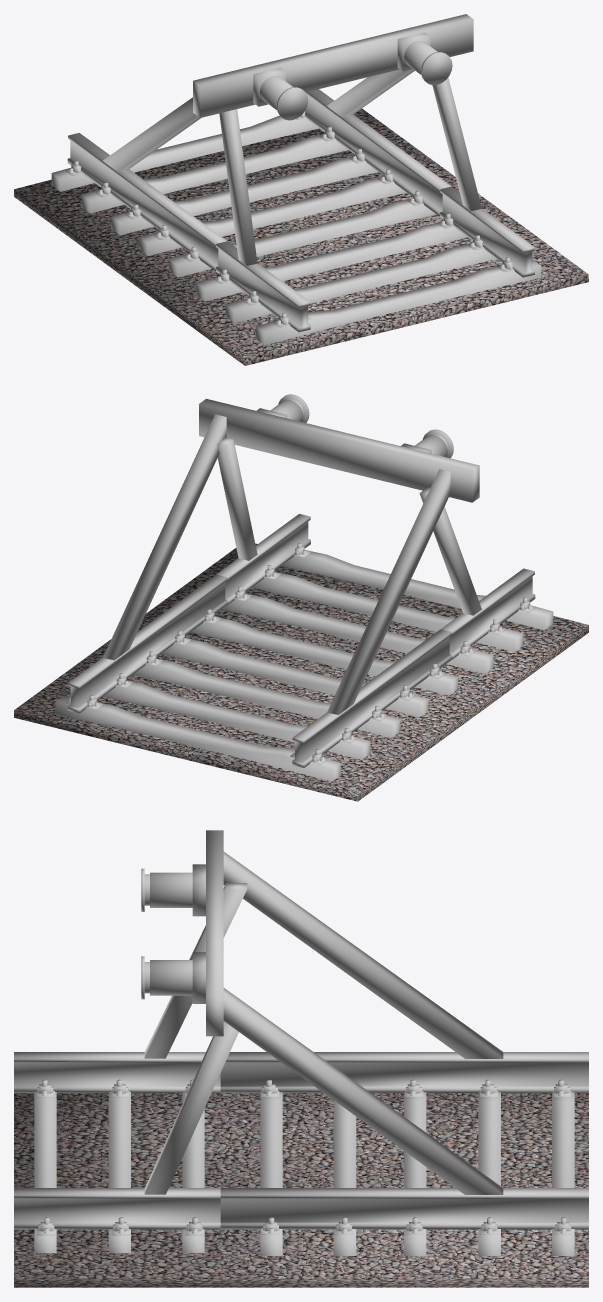
Rendered from track_end_concrete.fbx.
The picture shows the model from 3 angles, top to bottom: view 1: azimuth 30°, elevation 25°; view 2: azimuth 150°, elevation 25°; view 3: azimuth 270°, elevation 25°; orthographic projection. The views are drawn at different scales.
Parts seen in each view (by area): view 1: rails, ground, concrete; view 2: rails, ground, concrete; view 3: rails, ground, concrete.
Boxes of the visible parts, left/top/right/bottom form: rails: left=65, top=14, right=534, bottom=332; ground: left=14, top=108, right=588, bottom=365; concrete: left=51, top=115, right=540, bottom=345; rails: left=65, top=394, right=535, bottom=767; ground: left=14, top=543, right=588, bottom=801; concrete: left=55, top=550, right=553, bottom=781; rails: left=14, top=830, right=588, bottom=1235; ground: left=14, top=1093, right=588, bottom=1287; concrete: left=34, top=1092, right=574, bottom=1255.
Bounding box in the file's own units: 2.85 × 1.71 × 3.32.
